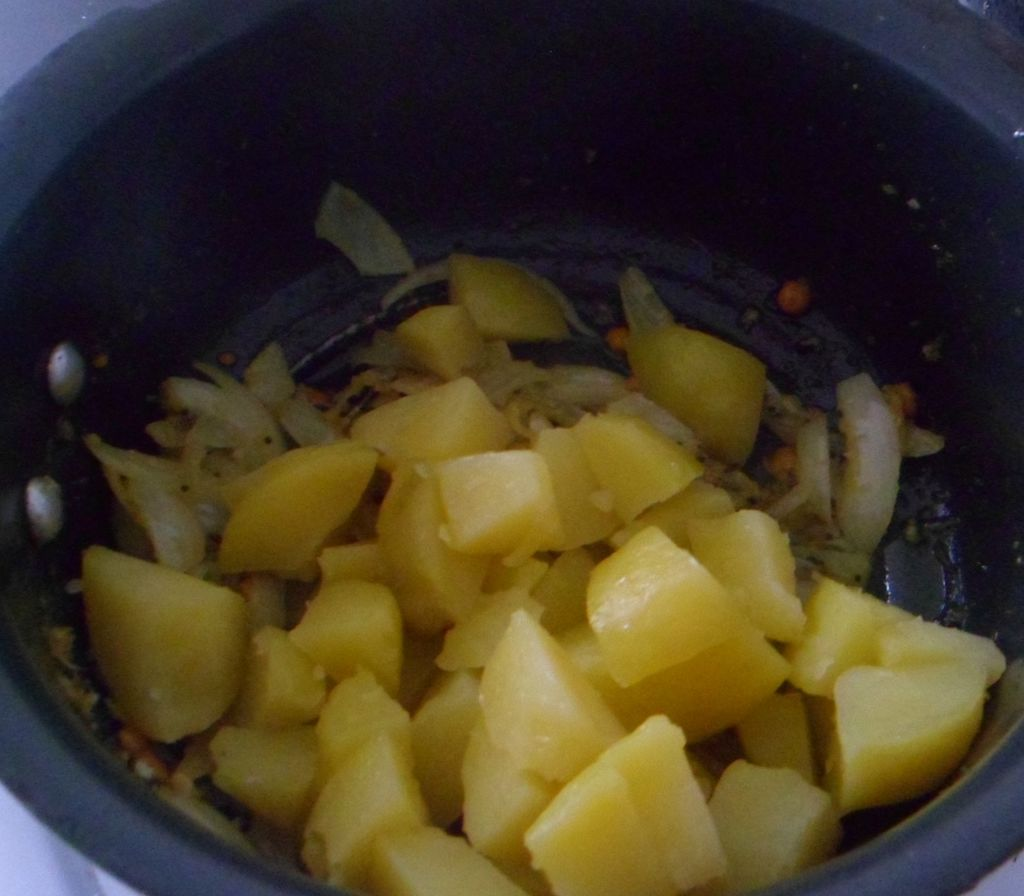boiled potatoes: (217, 417, 847, 855)
